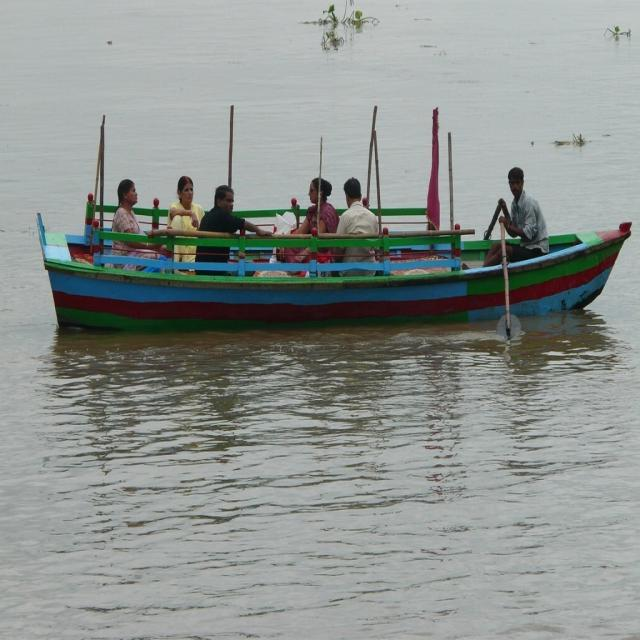Hyacinth: (308, 8, 375, 46), (544, 130, 596, 162), (597, 20, 639, 43)
boat: (36, 196, 640, 346)
